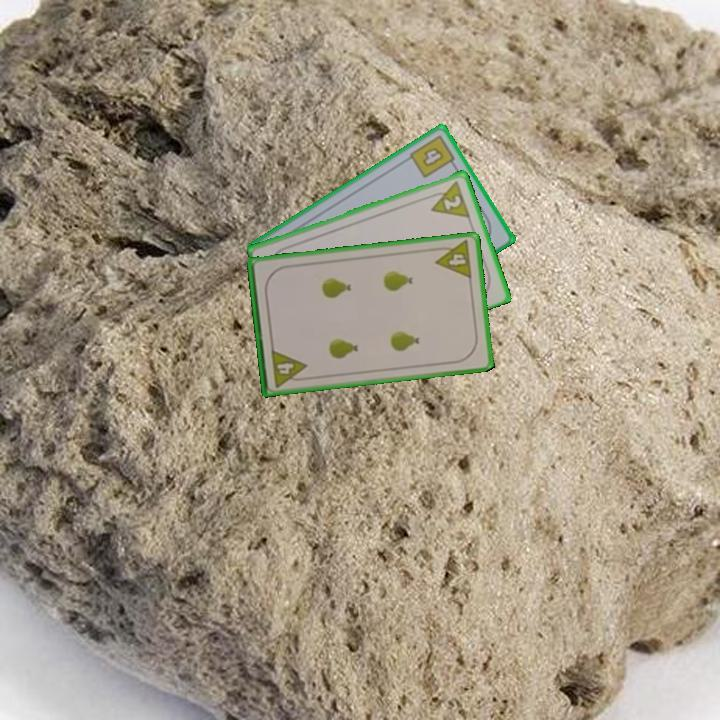2p: (423, 177, 473, 220)
4b: (406, 131, 460, 181)
4p: (431, 237, 475, 281), (268, 345, 310, 390)
